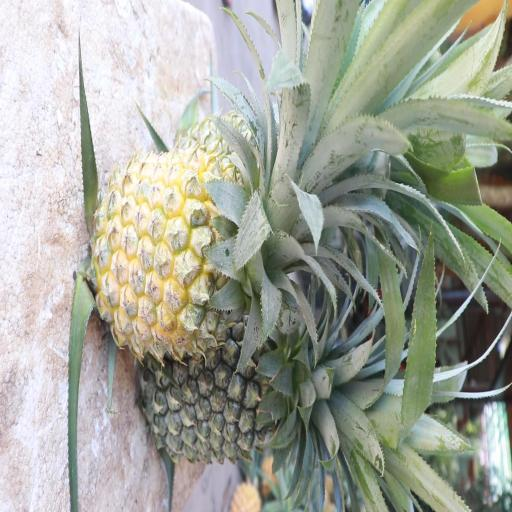Pineapple - v8 v1: (97, 152, 307, 346)
